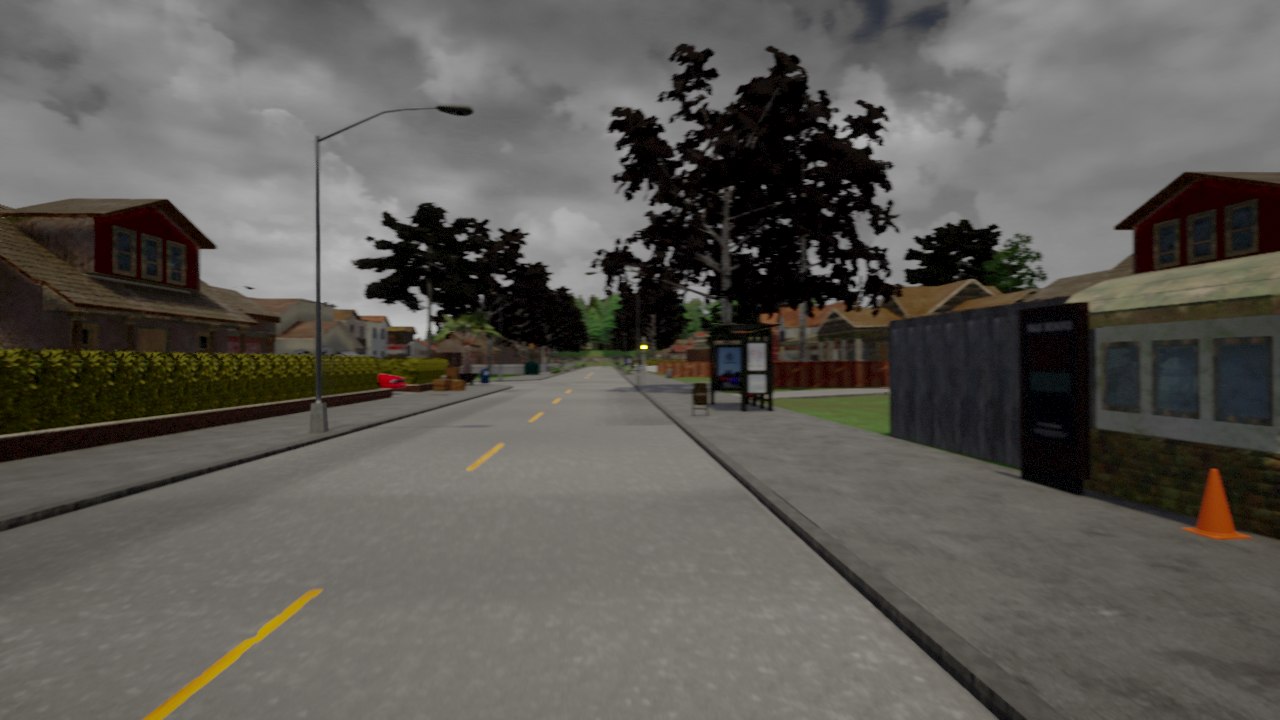yellow: (638, 338, 648, 356)
